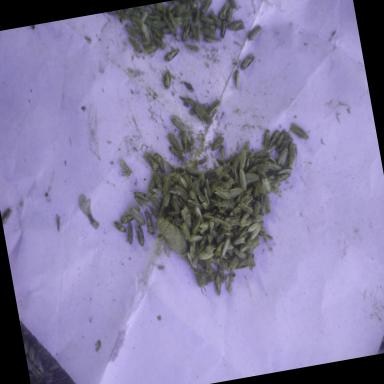pbw: (194, 102, 214, 126), (289, 121, 310, 142), (129, 204, 147, 228), (168, 131, 185, 156), (212, 268, 225, 298), (238, 52, 257, 72), (196, 185, 210, 211), (163, 12, 177, 38), (168, 144, 186, 164), (145, 150, 160, 174), (275, 147, 292, 168), (218, 236, 234, 258), (189, 216, 206, 236), (171, 116, 188, 136), (154, 150, 167, 176), (161, 65, 174, 90), (246, 24, 264, 42), (238, 200, 256, 218), (151, 168, 165, 191), (178, 22, 194, 42), (286, 140, 298, 166), (258, 192, 271, 216), (180, 130, 193, 154), (140, 20, 152, 46), (196, 168, 210, 190), (260, 128, 274, 150), (214, 184, 232, 201), (213, 214, 232, 230), (266, 129, 282, 148), (216, 255, 232, 274), (175, 172, 190, 192), (128, 35, 143, 55), (148, 190, 162, 211), (160, 174, 174, 195), (134, 194, 150, 212), (150, 24, 166, 42), (174, 183, 190, 201), (197, 0, 215, 16), (0, 206, 16, 224), (190, 20, 203, 42), (236, 148, 249, 170), (145, 210, 156, 236), (180, 206, 193, 228), (146, 176, 160, 196), (124, 222, 136, 245), (184, 163, 201, 179), (210, 135, 226, 152), (152, 33, 167, 51), (124, 22, 139, 40), (163, 48, 182, 62), (187, 250, 199, 272), (161, 188, 174, 208), (226, 19, 246, 32), (248, 224, 264, 240), (186, 194, 202, 210), (112, 218, 128, 234), (134, 188, 150, 204), (180, 93, 197, 108), (274, 128, 288, 146), (256, 229, 274, 243), (216, 3, 230, 21), (207, 218, 218, 240), (268, 159, 284, 174), (218, 19, 230, 39), (238, 168, 248, 192), (212, 240, 227, 256), (243, 162, 260, 176), (227, 253, 241, 270), (200, 24, 217, 38), (136, 224, 146, 247), (227, 203, 242, 218), (227, 186, 243, 200), (204, 34, 222, 46), (224, 214, 243, 225), (143, 43, 159, 56), (132, 20, 144, 37), (270, 182, 282, 199), (232, 70, 242, 90), (204, 256, 215, 274), (172, 194, 181, 216), (219, 144, 228, 166), (130, 14, 144, 28), (234, 246, 248, 260), (247, 242, 262, 255), (200, 210, 216, 222), (266, 150, 278, 166), (244, 171, 260, 183), (256, 161, 272, 173), (174, 3, 190, 15), (200, 15, 216, 27), (146, 16, 158, 32), (188, 242, 200, 258), (251, 182, 263, 198), (148, 204, 160, 220), (248, 213, 264, 225), (210, 10, 220, 29), (217, 265, 227, 284), (262, 175, 272, 194), (187, 232, 204, 243), (232, 234, 249, 245), (224, 6, 235, 23), (243, 139, 254, 156), (238, 239, 252, 252), (208, 102, 222, 115), (198, 220, 212, 233), (238, 215, 252, 228), (198, 234, 210, 249), (204, 178, 213, 198), (181, 222, 191, 240), (120, 212, 135, 224), (198, 250, 214, 261), (277, 166, 294, 176), (117, 8, 130, 21), (183, 80, 195, 94), (264, 142, 278, 154), (186, 42, 200, 54), (168, 10, 177, 28), (203, 186, 211, 206), (158, 201, 168, 217), (276, 172, 292, 182), (234, 167, 242, 187), (165, 1, 178, 13), (223, 170, 234, 184), (251, 150, 266, 160), (127, 206, 142, 216), (215, 180, 230, 190), (188, 188, 198, 203), (234, 260, 249, 270), (202, 243, 218, 252), (214, 162, 226, 174), (152, 18, 166, 28), (223, 0, 237, 10), (246, 222, 260, 232), (139, 10, 150, 22), (173, 15, 184, 27), (198, 256, 208, 269), (193, 8, 202, 22), (194, 205, 203, 219), (209, 196, 220, 207), (216, 168, 226, 180), (168, 210, 180, 220), (222, 164, 234, 174), (152, 192, 166, 200), (241, 193, 252, 203), (150, 14, 162, 22), (222, 161, 232, 170), (175, 195, 182, 207), (156, 2, 164, 12), (146, 4, 156, 12), (160, 2, 166, 14), (175, 217, 183, 226), (168, 171, 178, 177), (226, 244, 234, 250)
